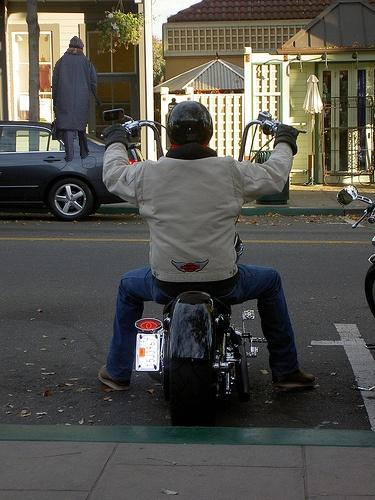tampered: (52, 37, 101, 162)
